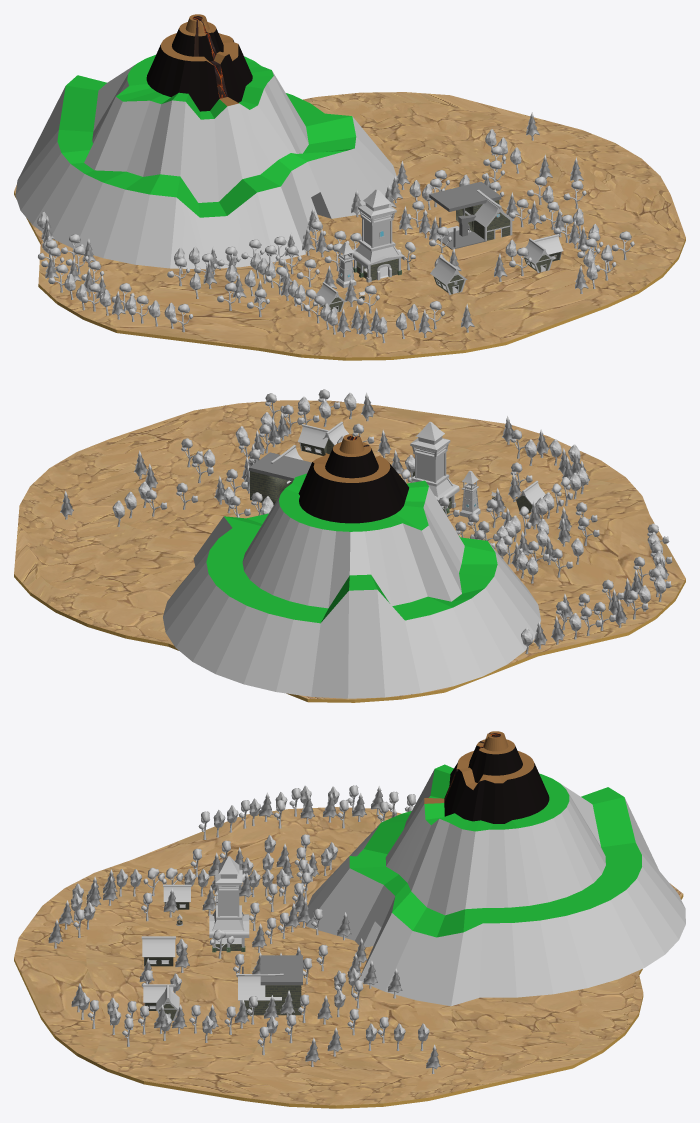
The model's file is Isla_IslandFinal.fbx.
The picture shows the model from 3 angles, top to bottom: view 1: azimuth 30°, elevation 25°; view 2: azimuth 150°, elevation 25°; view 3: azimuth 270°, elevation 25°; orthographic projection. The views are drawn at different scales.
Parts seen in each view (by area): view 1: Volcano.001, Volcano, pCube42, pCube82, polySurface19.003, pCube179, pCube79.001; view 2: Volcano.001, Volcano, pCube82, pCube42, polySurface19.003, pCube79.001, pCube14.002; view 3: Volcano.001, Volcano, pCube42, pCube82, pCube179, polySurface19.003.
Part boxes in pixels (x1=…): Volcano.001: x1=14, y1=92, x2=685, y2=360; Volcano: x1=15, y1=14, x2=397, y2=269; pCube42: x1=429, y1=181, x2=513, y2=249; pCube82: x1=349, y1=189, x2=405, y2=282; polySurface19.003: x1=523, y1=234, x2=563, y2=272; pCube179: x1=430, y1=256, x2=467, y2=294; pCube79.001: x1=336, y1=242, x2=356, y2=287; Volcano.001: x1=14, y1=400, x2=685, y2=702; Volcano: x1=163, y1=434, x2=540, y2=698; pCube82: x1=410, y1=421, x2=459, y2=513; pCube42: x1=249, y1=445, x2=311, y2=504; polySurface19.003: x1=297, y1=421, x2=348, y2=455; pCube79.001: x1=460, y1=470, x2=480, y2=517; pCube14.002: x1=514, y1=480, x2=545, y2=513; Volcano.001: x1=14, y1=807, x2=683, y2=1108; Volcano: x1=306, y1=731, x2=685, y2=1006; pCube42: x1=236, y1=955, x2=302, y2=1015; pCube82: x1=209, y1=856, x2=249, y2=952; pCube179: x1=141, y1=936, x2=175, y2=966; polySurface19.003: x1=142, y1=984, x2=179, y2=1020.
Bounding box in the file's own units: 17036 × 5137 × 16195.
